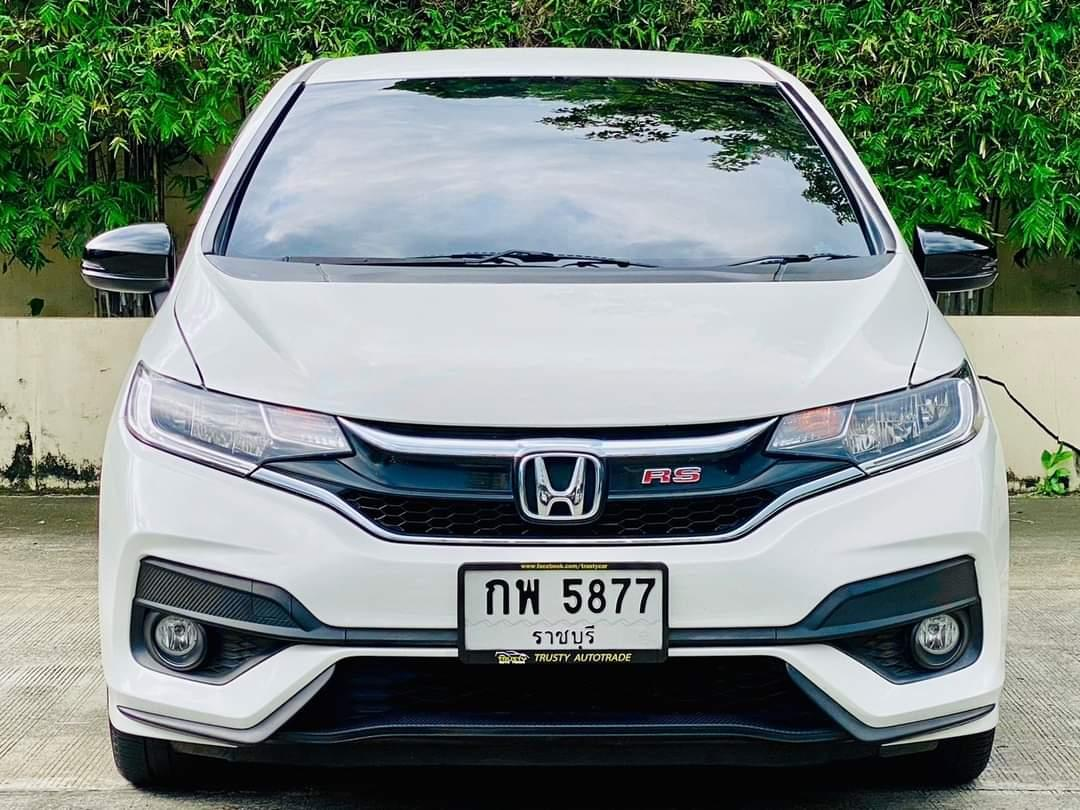license-plate: (455, 557, 674, 670)
